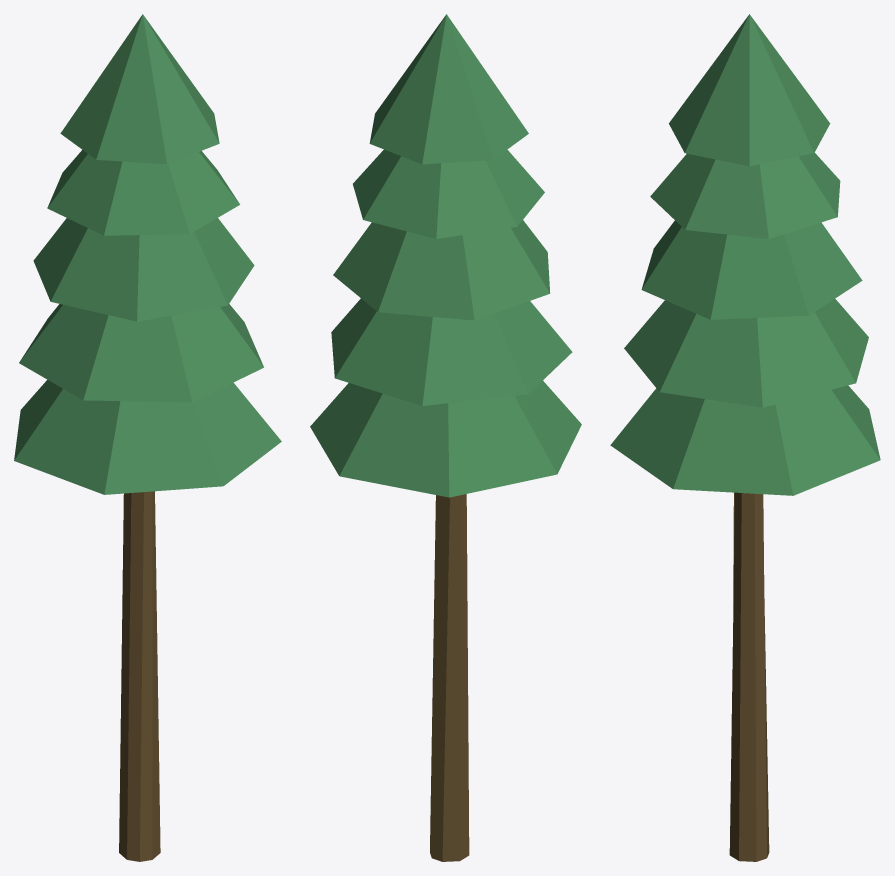
The model's file is Nadelbaum 6.fbx.
3 renders of one model, left to right at view 1: azimuth 30°, elevation 25°; view 2: azimuth 150°, elevation 25°; view 3: azimuth 270°, elevation 25°, orthographic.
Parts seen in each view (by area): view 1: Kegel_5, stamm; view 2: Kegel_5, stamm; view 3: Kegel_5, stamm.
Boxes of the visible parts, left/top/right/bottom form: Kegel_5: left=14, top=14, right=281, bottom=494; stamm: left=119, top=491, right=160, bottom=861; Kegel_5: left=310, top=14, right=581, bottom=497; stamm: left=430, top=494, right=469, bottom=861; Kegel_5: left=610, top=14, right=880, bottom=495; stamm: left=729, top=492, right=769, bottom=861.
Size of the model in its own units: 286 by 979 by 285.
